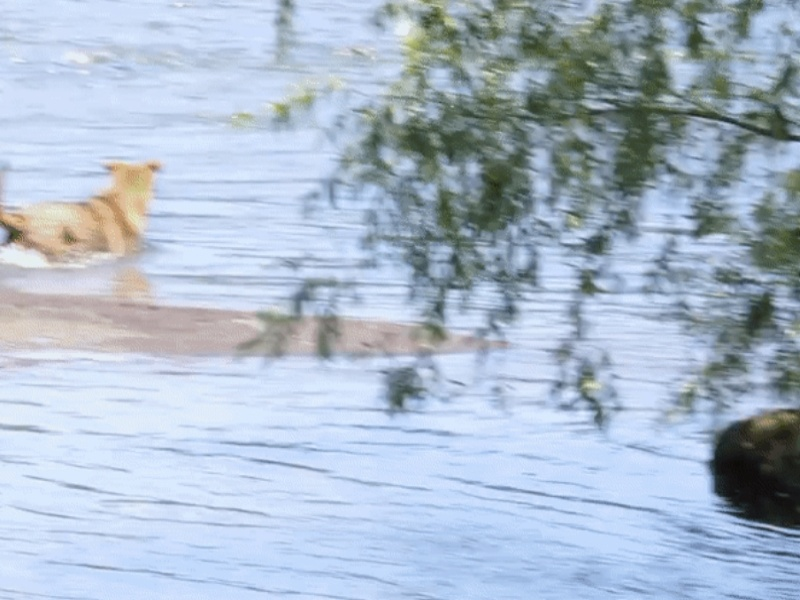dog: (1, 156, 169, 272)
